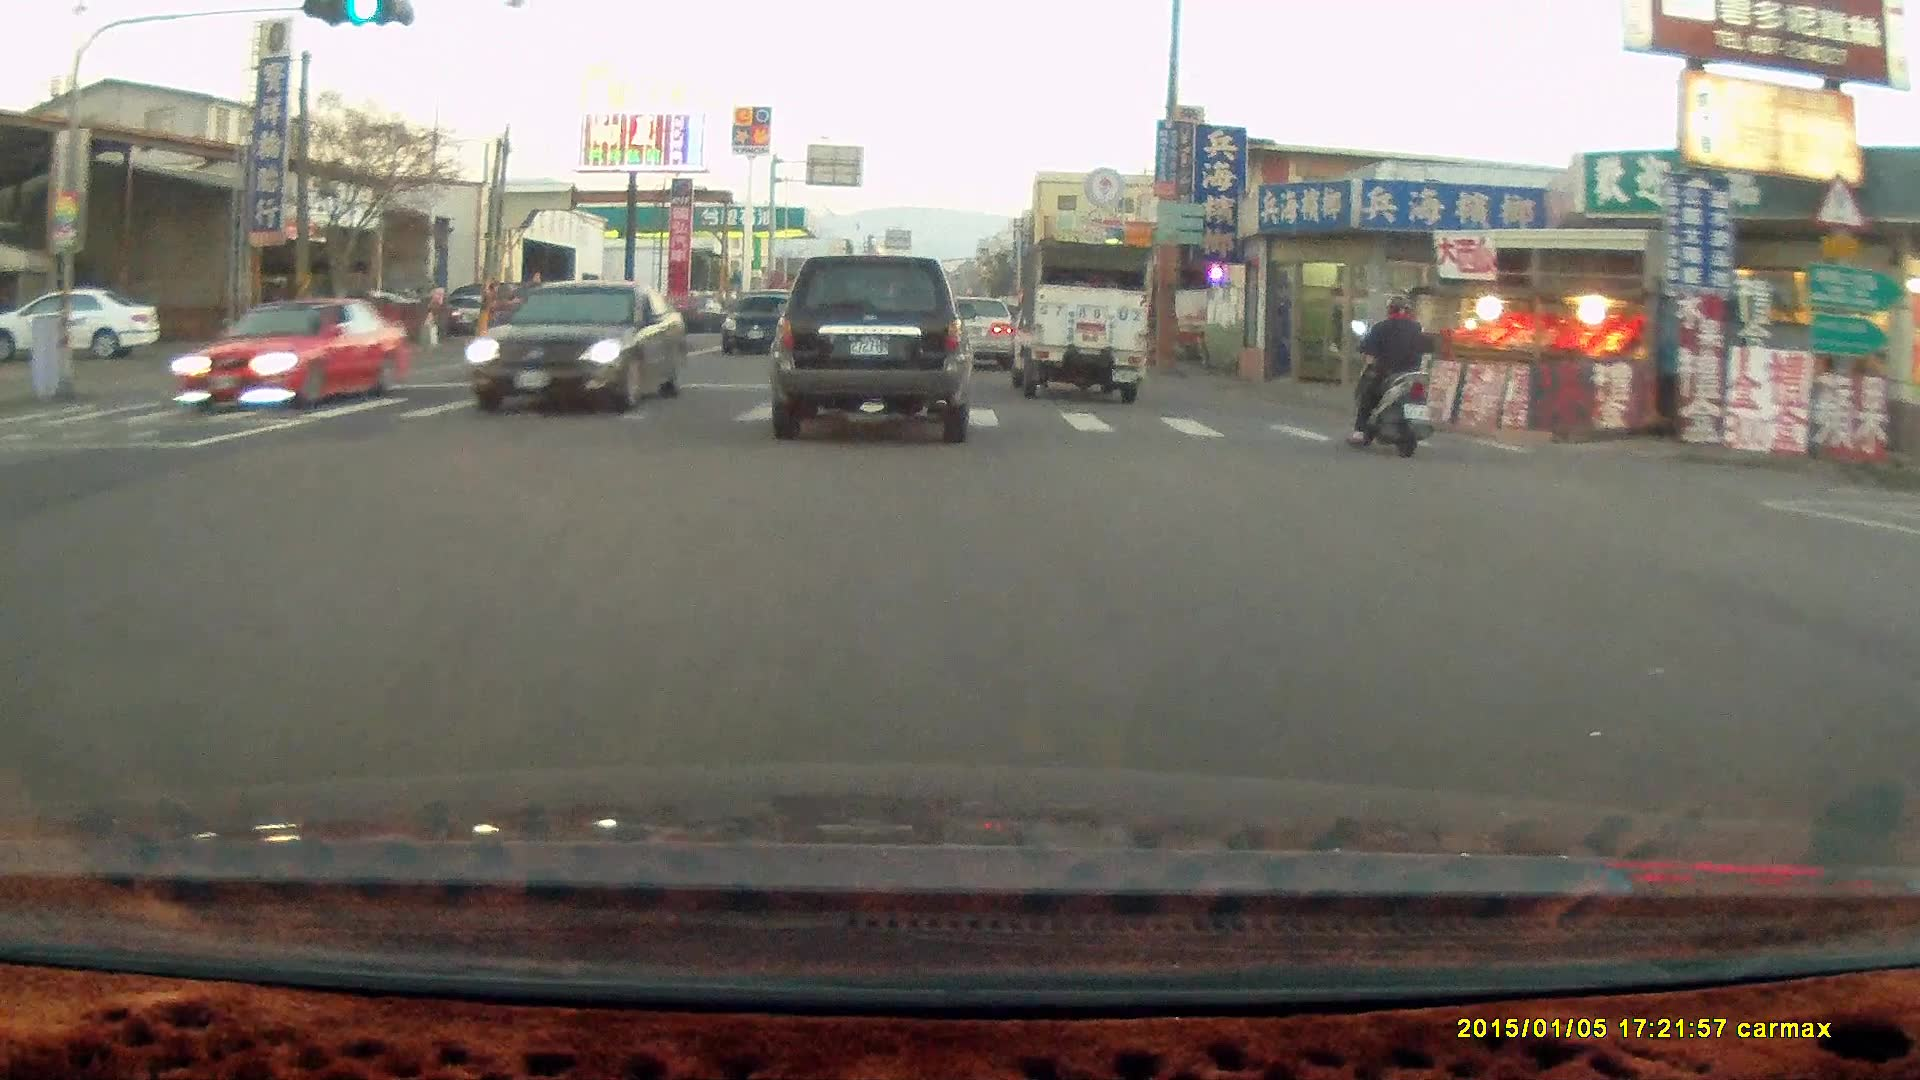rider: (1342, 293, 1432, 459)
vehicle: (766, 253, 976, 443), (471, 279, 688, 415), (167, 296, 407, 409), (1009, 235, 1154, 401), (3, 281, 162, 357), (935, 297, 1016, 373), (721, 290, 810, 357), (955, 285, 1029, 364)
